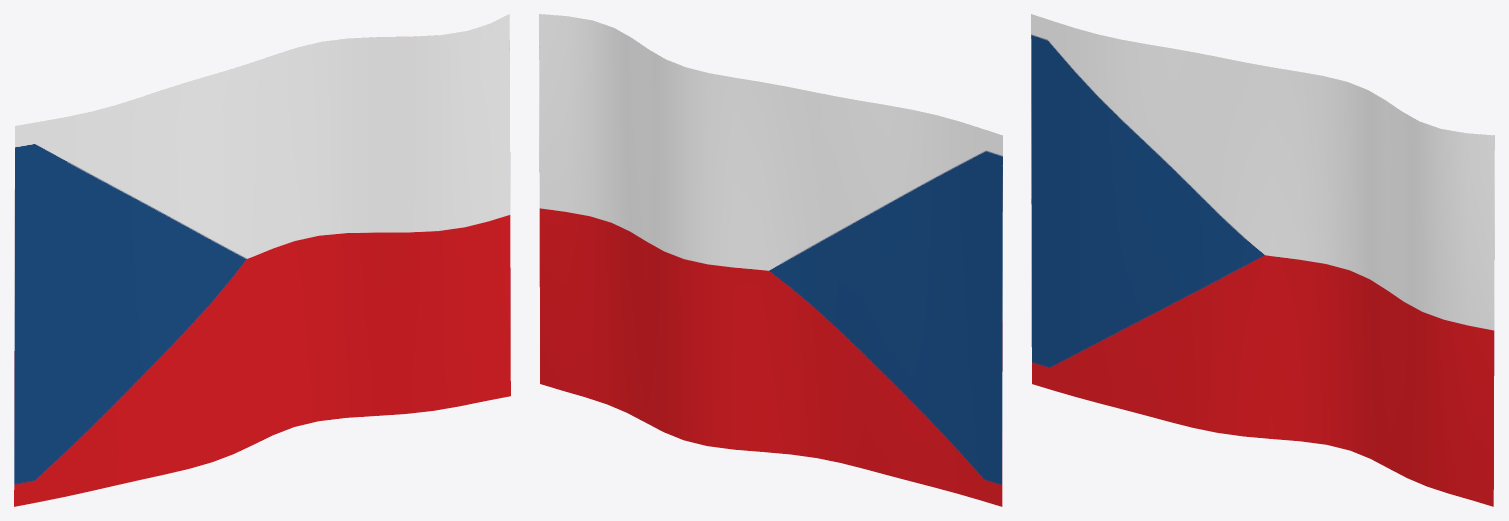
Rendered from CZ_Czechia.glb.
3 views of the same model, side by side, from view 1: azimuth 30°, elevation 25°; view 2: azimuth 150°, elevation 25°; view 3: azimuth 330°, elevation 25° (orthographic). The views are drawn at different scales.
Visible parts, largest first — view 1: CZ_flag; view 2: CZ_flag; view 3: CZ_flag.
Part boxes in pixels (<box>): CZ_flag: <box>14,14,510,506</box>; CZ_flag: <box>539,14,1002,506</box>; CZ_flag: <box>1031,14,1494,506</box>.
Bounding box in the file's own units: 1.33 × 1 × 0.1347.
Materials: 1 (1 with a texture image).
